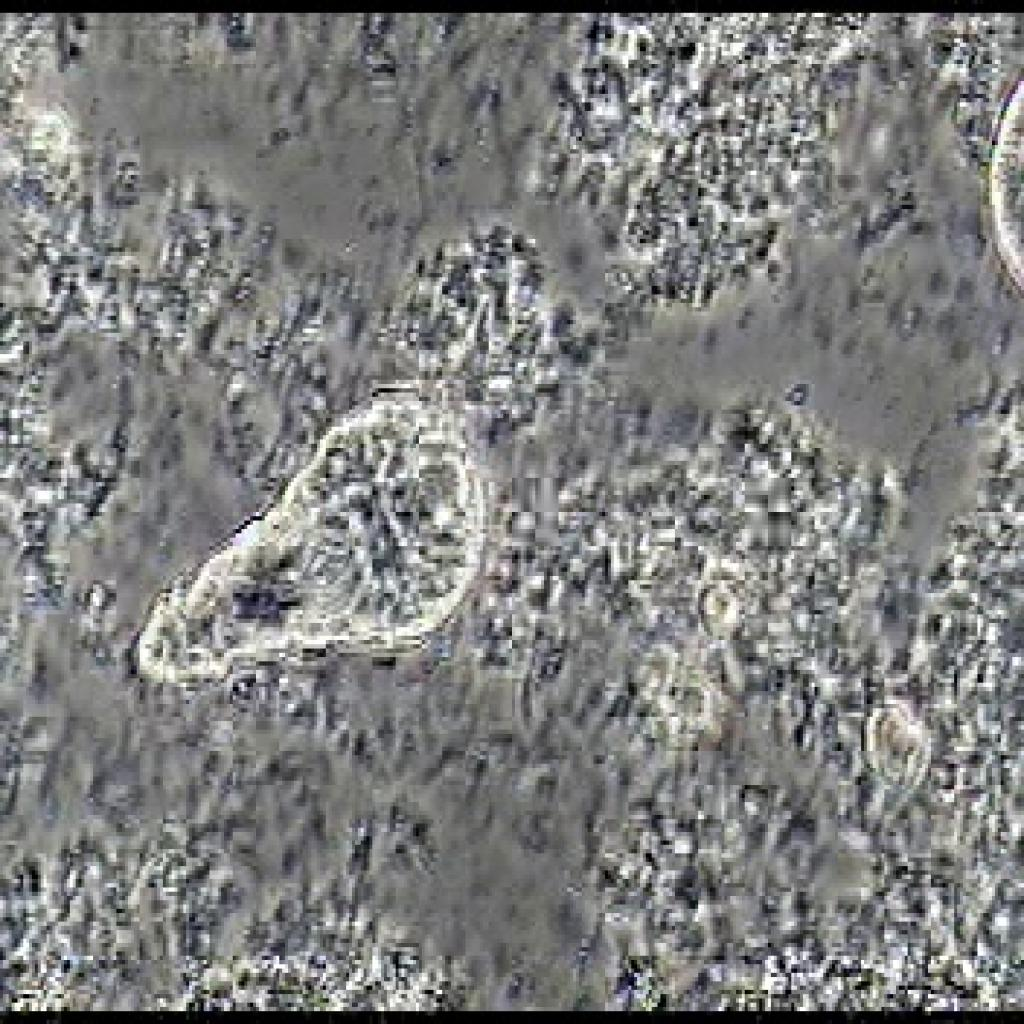Rotatoria: (131, 332, 497, 730)
